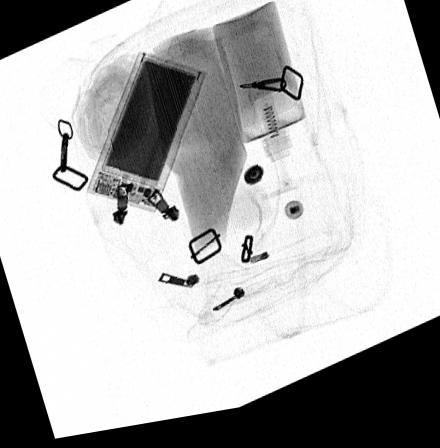Powerbank: (86, 54, 208, 216)
